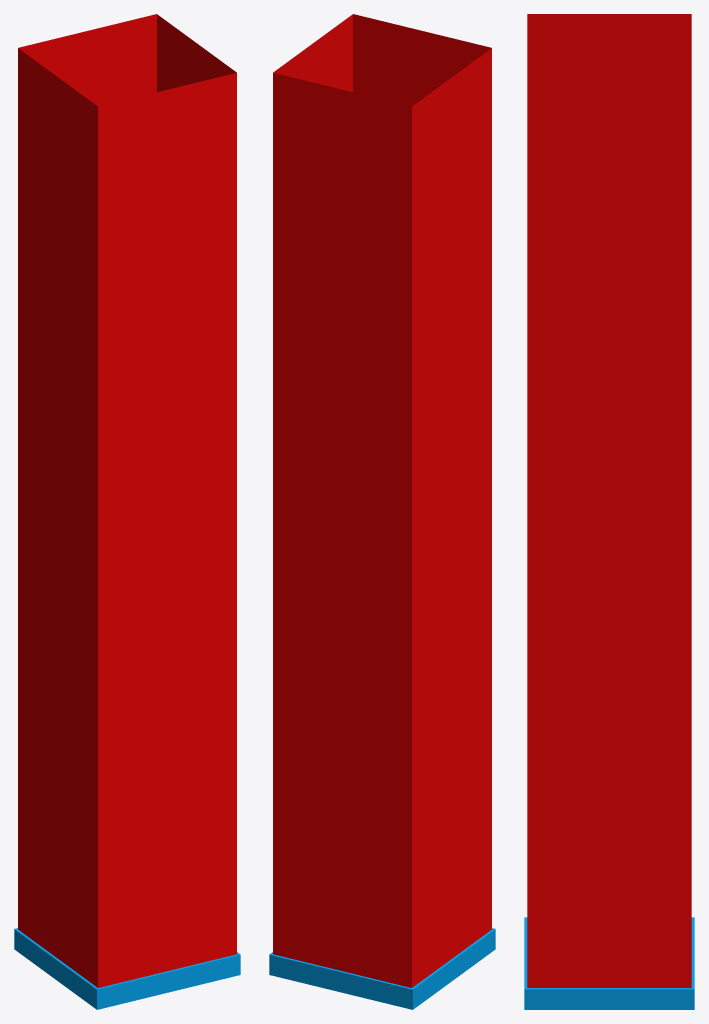
File: SM_Pillar.FBX
3 views of the same model, side by side, from view 1: azimuth 30°, elevation 25°; view 2: azimuth 150°, elevation 25°; view 3: azimuth 270°, elevation 25° (orthographic). The views are drawn at different scales.
Visible parts, largest first — view 1: SM_Pillar; view 2: SM_Pillar; view 3: SM_Pillar.
Boxes of the visible parts, x1=… form: SM_Pillar: x1=14, y1=14, x2=240, y2=1009; SM_Pillar: x1=269, y1=14, x2=495, y2=1009; SM_Pillar: x1=524, y1=14, x2=694, y2=1009.
Bounding box in the file's own units: 0.5169 × 3.1 × 0.5169.
